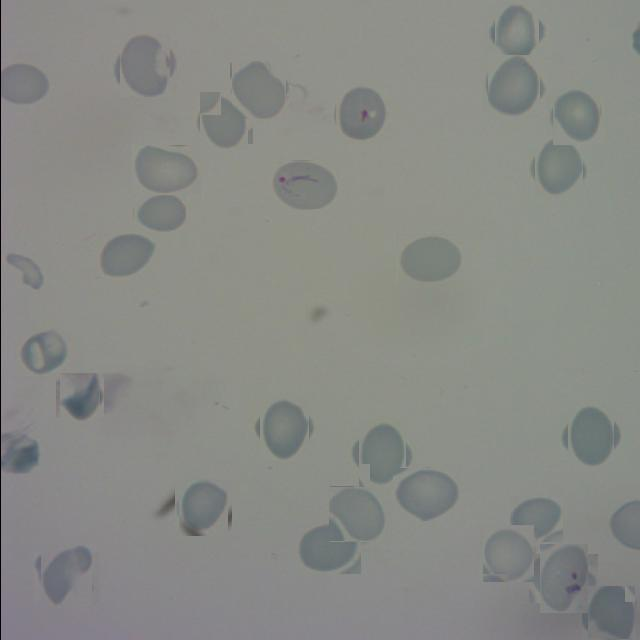leukocyte: (391, 467, 459, 521), (36, 548, 94, 608), (131, 145, 200, 195), (294, 523, 360, 574), (484, 57, 542, 115), (255, 400, 312, 457), (352, 426, 410, 482), (116, 36, 172, 94), (396, 234, 462, 283), (530, 140, 586, 196), (562, 408, 618, 464), (230, 62, 286, 118), (328, 486, 384, 542), (480, 527, 535, 581), (490, 4, 543, 58), (548, 90, 602, 142), (176, 482, 230, 534), (95, 233, 156, 279), (197, 94, 250, 146), (583, 589, 637, 640), (16, 329, 70, 376), (509, 497, 562, 542), (56, 376, 102, 420), (0, 249, 46, 292), (132, 195, 185, 232)
red blood cell: (533, 549, 592, 608), (270, 160, 338, 209), (332, 88, 388, 142)
